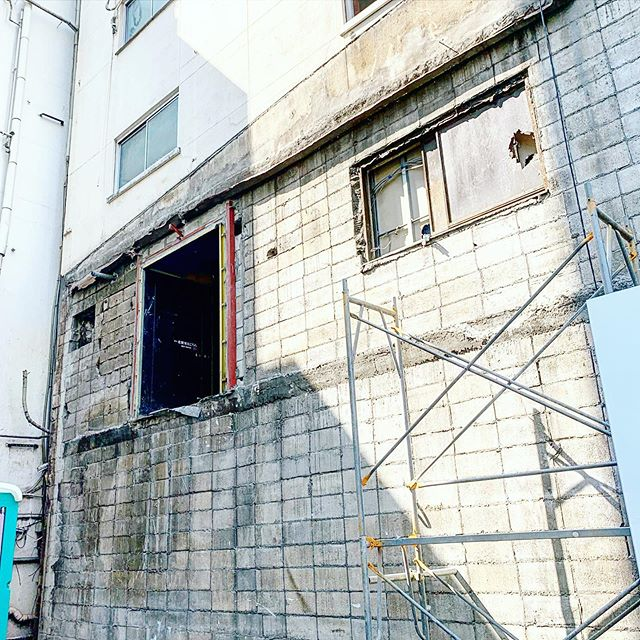building: (15, 1, 640, 631)
window: (362, 55, 558, 269), (137, 221, 258, 416)
